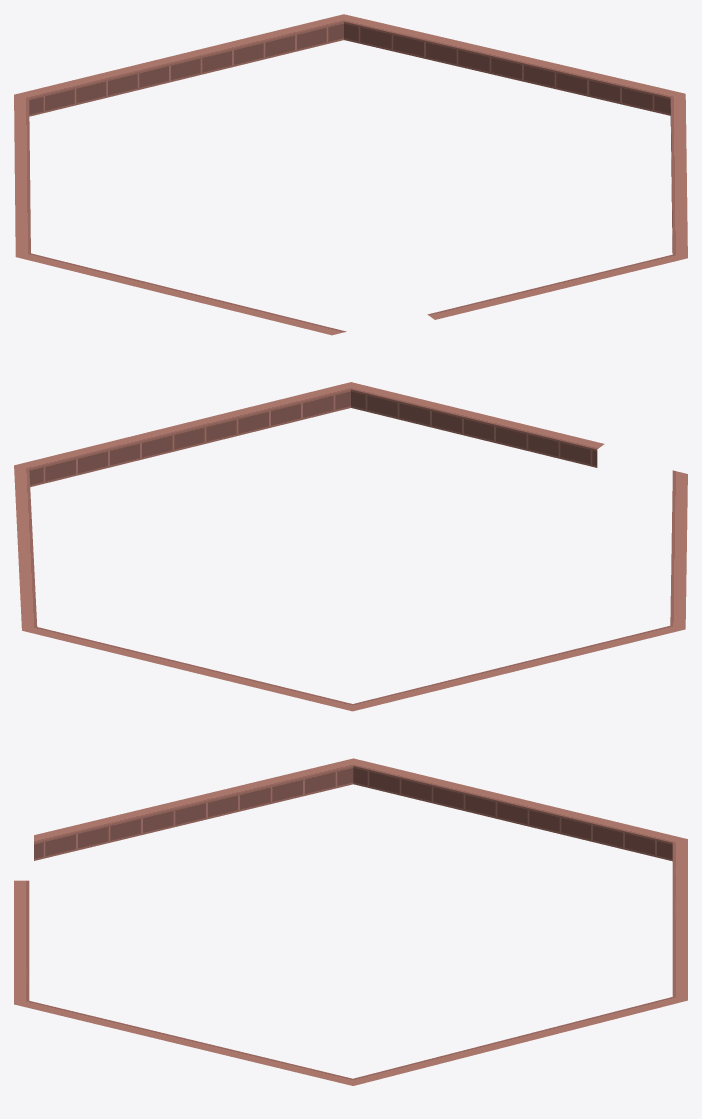
Rendered from kd_connection_town-ground_surface_2_5.glb.
The picture shows the model from 3 angles, top to bottom: view 1: azimuth 30°, elevation 25°; view 2: azimuth 150°, elevation 25°; view 3: azimuth 270°, elevation 25°; orthographic projection.
Visible parts, largest first — view 1: kd_connection_town-ground_surface_2_5; view 2: kd_connection_town-ground_surface_2_5; view 3: kd_connection_town-ground_surface_2_5.
Part boxes in pixels (left/top/right/bottom): kd_connection_town-ground_surface_2_5: left=14, top=14, right=687, bottom=335; kd_connection_town-ground_surface_2_5: left=14, top=382, right=687, bottom=711; kd_connection_town-ground_surface_2_5: left=14, top=758, right=687, bottom=1085.
Bounding box in the file's own units: 19.04 × 0.5 × 16.55.
Materials: 1 (1 with a texture image).
